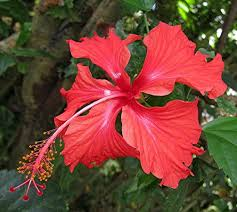hybiscus: (18, 26, 226, 199)
